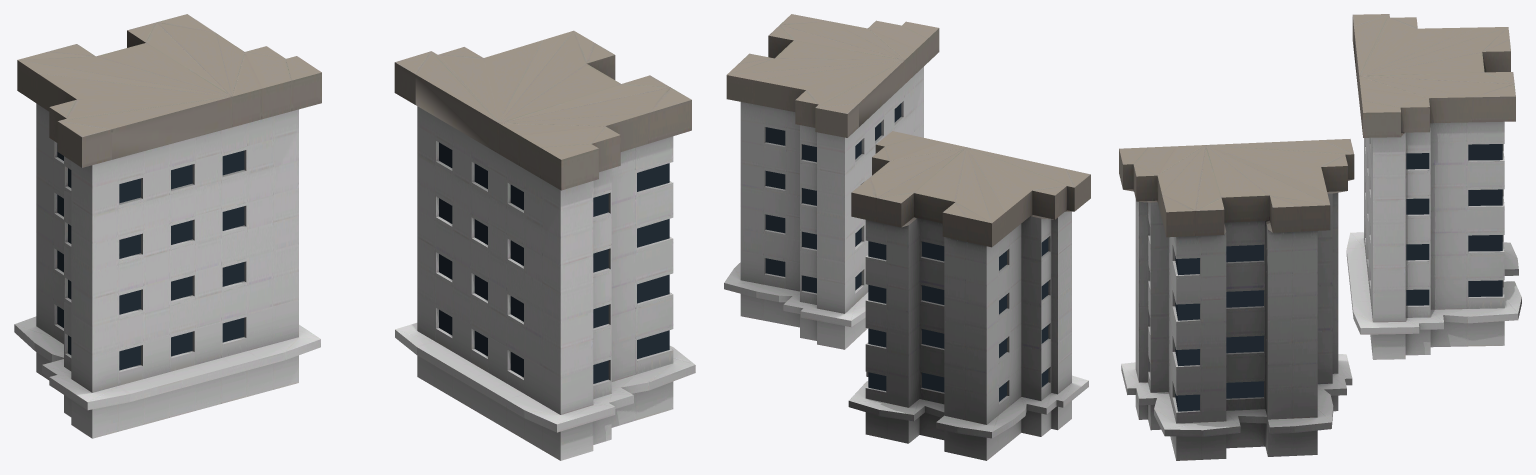
File: ananadbuddha.glb
3 renders of one model, left to right at view 1: azimuth 30°, elevation 25°; view 2: azimuth 150°, elevation 25°; view 3: azimuth 270°, elevation 25°, orthographic. The views are drawn at different scales.
Visible parts, largest first — view 1: Buddha002; view 2: Buddha002; view 3: Buddha002.
Boxes of the visible parts, x1,y1,x2,y2 form: Buddha002: (14, 14, 695, 460); Buddha002: (724, 14, 1090, 460); Buddha002: (1119, 14, 1521, 460).
Size of the model in its own units: 13.32 by 7.88 by 11.34.
Materials: 2 (1 with a texture image).
